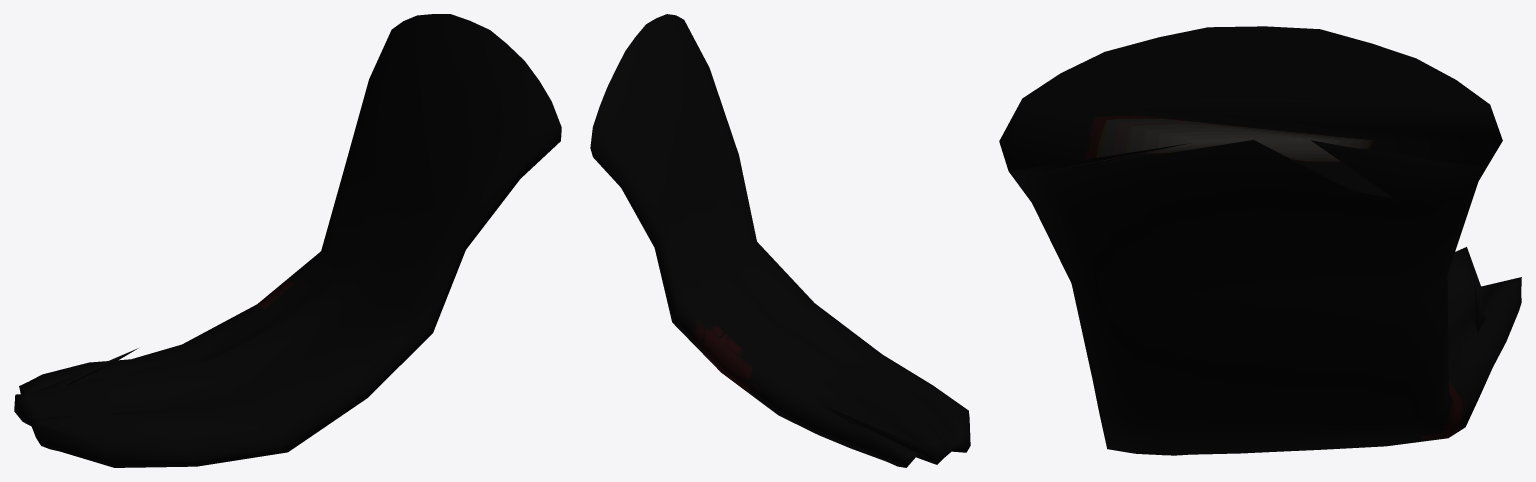
Rendered from foca_aleta_S_Derecha.obj.
3 views of the same model, side by side, from view 1: azimuth 30°, elevation 25°; view 2: azimuth 150°, elevation 25°; view 3: azimuth 270°, elevation 25° (orthographic). The views are drawn at different scales.
Parts seen in each view (by area): view 1: sea; view 2: sea; view 3: sea.
Boxes of the visible parts, <box> form: sea: <box>14,14,561,467</box>; sea: <box>590,14,970,467</box>; sea: <box>999,26,1521,455</box>.
Size of the model in its own units: 0.9087 by 0.7308 by 0.5447.
Materials: 1 (1 with a texture image).
